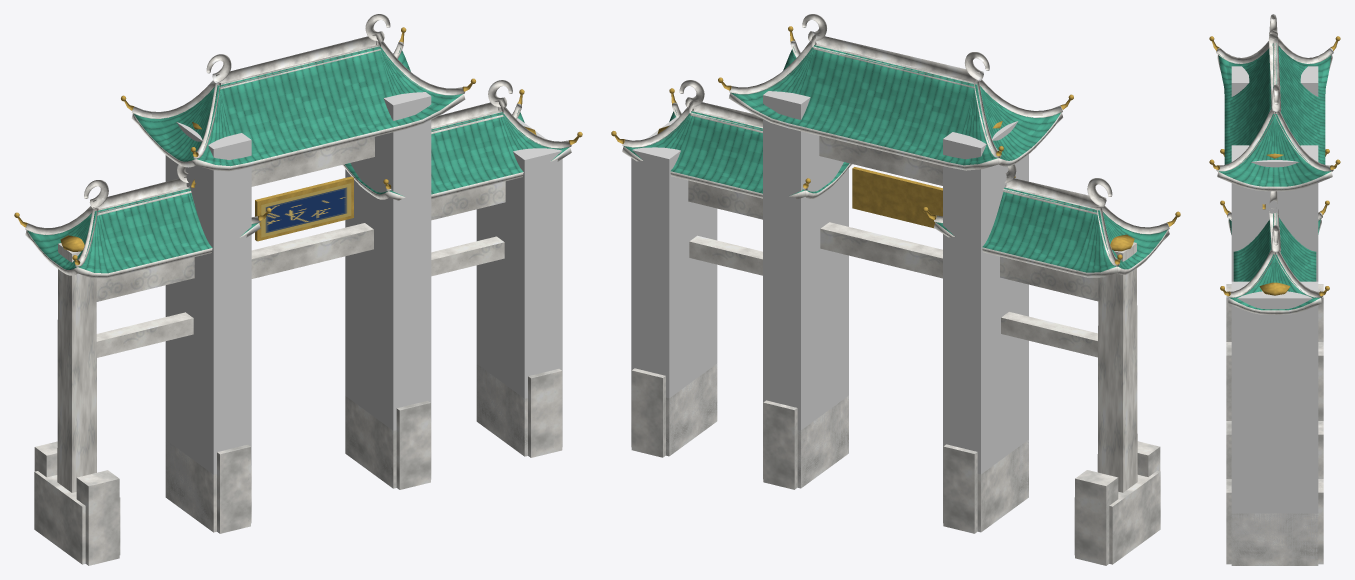
The model's file is cloud_gate.glb.
3 views of the same model, side by side, from view 1: azimuth 30°, elevation 25°; view 2: azimuth 150°, elevation 25°; view 3: azimuth 270°, elevation 25° (orthographic). The views are drawn at different scales.
Parts seen in each view (by area): view 1: CloudGateDrums, GatePillar-convcolonly.001, GatePillar-convcolonly.002, CloudRoofMain, GatePillar-convcolonly.003, CloudGateBeams, CloudRoofSideR, CloudGatePillars, CloudRoofSideL, CloudRoofMainRidges, Plaque, CloudRoofSideRRidges (+2 smaller); view 2: CloudGateDrums, GatePillar-convcolonly.002, GatePillar-convcolonly.001, CloudRoofMain, GatePillar-convcolonly.003, CloudGateBeams, CloudRoofSideR, CloudGatePillars, CloudRoofSideL, CloudRoofMainRidges, PlaqueFrame, CloudRoofSideRRidges (+1 smaller); view 3: GatePillar-convcolonly.003, CloudRoofMain, CloudGateDrums, GatePillar-convcolonly.002, CloudRoofSideL, CloudRoofMainRidges, CloudRoofSideLRidges, GatePillar-convcolonly.001, CloudGateGold, CloudRoofMainOrnaments, CloudRoofSideLOrnaments.
Part boxes in pixels (x1,y1,x2,y2): CloudGateDrums: (34, 364, 562, 565); GatePillar-convcolonly.001: (165, 122, 251, 531); GatePillar-convcolonly.002: (345, 92, 431, 487); CloudRoofMain: (131, 45, 465, 171); GatePillar-convcolonly.003: (476, 118, 562, 456); CloudGateBeams: (96, 137, 505, 357); CloudRoofSideR: (25, 187, 260, 278); CloudGatePillars: (57, 243, 96, 492); CloudRoofSideL: (342, 110, 571, 200); CloudRoofMainRidges: (132, 14, 464, 159); Plaque: (261, 183, 351, 237); CloudRoofSideRRidges: (25, 164, 260, 267); CloudGateDrums: (631, 363, 1160, 565); GatePillar-convcolonly.002: (763, 91, 848, 488); GatePillar-convcolonly.001: (943, 121, 1028, 531); CloudRoofMain: (729, 44, 1062, 170); GatePillar-convcolonly.003: (631, 117, 717, 455); CloudGateBeams: (688, 136, 1098, 357); CloudRoofSideR: (934, 186, 1169, 277); CloudGatePillars: (1097, 242, 1137, 492); CloudRoofSideL: (622, 110, 852, 199); CloudRoofMainRidges: (729, 14, 1062, 158); PlaqueFrame: (852, 167, 942, 228); CloudRoofSideRRidges: (934, 164, 1169, 266); GatePillar-convcolonly.003: (1231, 281, 1318, 565); CloudRoofMain: (1217, 42, 1332, 191); CloudGateDrums: (1226, 284, 1323, 565); GatePillar-convcolonly.002: (1231, 145, 1318, 281); CloudRoofSideL: (1228, 213, 1321, 314); CloudRoofMainRidges: (1216, 14, 1333, 171); CloudRoofSideLRidges: (1227, 191, 1322, 297); GatePillar-convcolonly.001: (1231, 66, 1318, 96); CloudGateGold: (1259, 153, 1290, 295); CloudRoofMainOrnaments: (1209, 36, 1340, 169); CloudRoofSideLOrnaments: (1220, 200, 1329, 296).
Size of what is drawn, in the model's own units: 14.74 by 12.55 by 3.64.
Materials: 7 (7 with a texture image).
